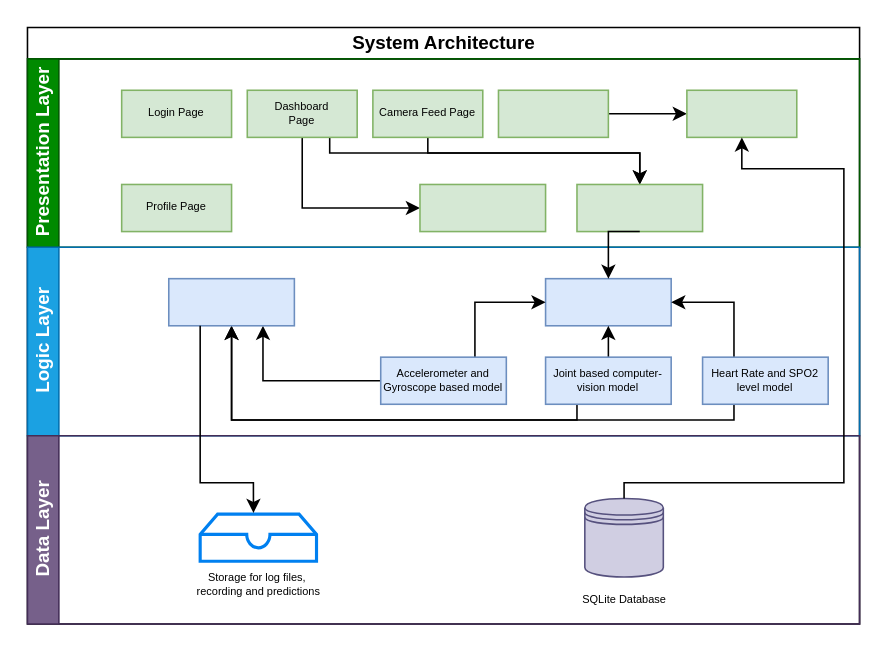
The diagram is 887 pixels wide and 652 high, and some of its shapes have lost their labels. Each missing label, with the centre of its shape:
"Check patient status" belongs at (639,207).
"Detect fall" belongs at (607,301).
"Generate Report" belongs at (741,113).
"Real Time Data Output Stream" belongs at (230,301).
"View patient vitals and movement" belongs at (482,207).
"Weekly Report Page" belongs at (552,113).
